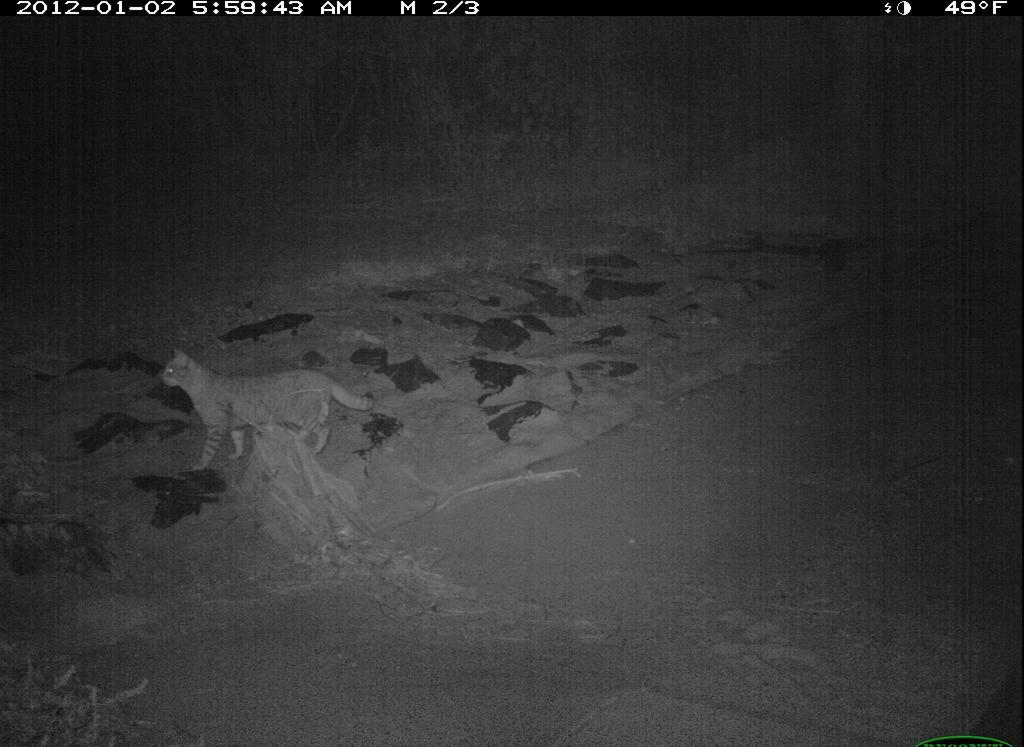cat: (154, 347, 370, 473)
